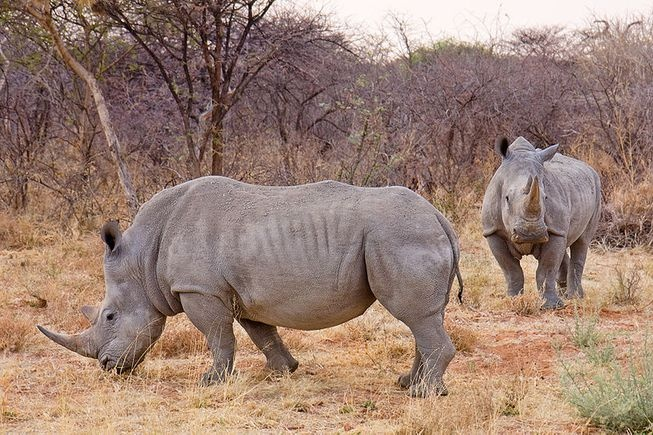rhino: (33, 174, 461, 399), (483, 133, 602, 311)
